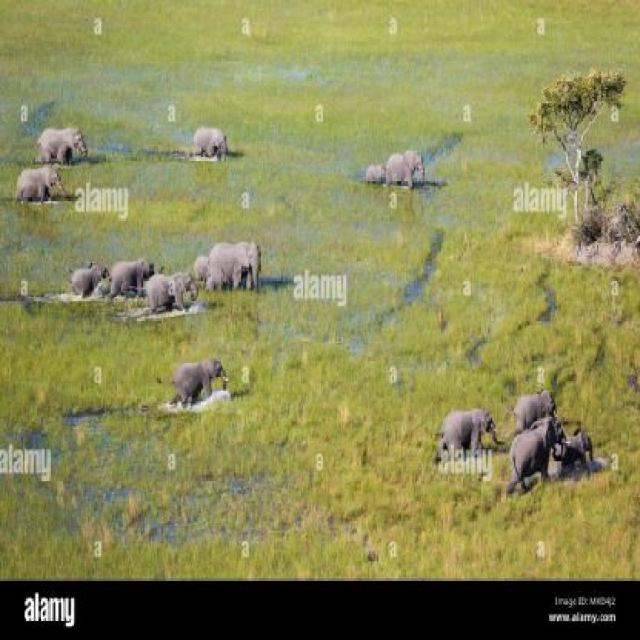elephant: (436, 394, 496, 478), (204, 230, 273, 299), (168, 350, 234, 415), (506, 418, 563, 491), (385, 139, 438, 207), (502, 378, 567, 432), (105, 249, 162, 303), (553, 414, 599, 480), (38, 119, 98, 164), (146, 270, 200, 318), (15, 158, 66, 208), (196, 117, 232, 166), (363, 157, 395, 200), (73, 256, 107, 292), (188, 249, 221, 282)
